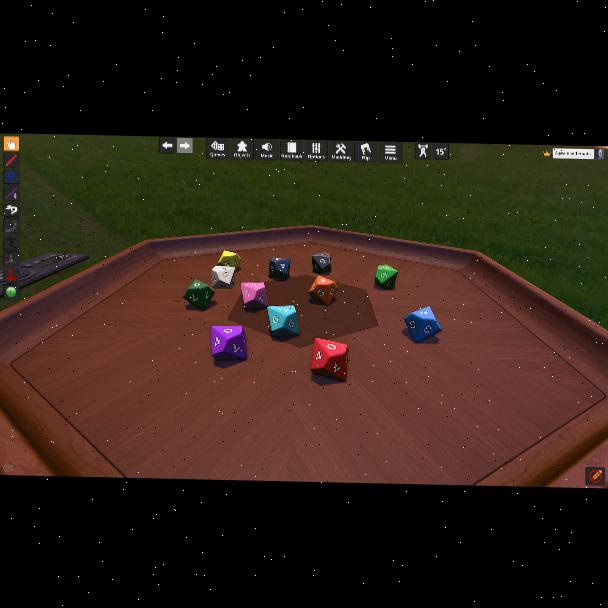d10: (310, 337, 346, 381), (211, 325, 247, 361), (406, 307, 441, 344), (268, 305, 300, 337), (184, 281, 214, 312), (308, 275, 336, 305), (240, 281, 268, 308), (212, 265, 236, 289), (374, 264, 397, 289), (268, 256, 290, 280), (217, 250, 241, 270), (312, 252, 330, 274)
